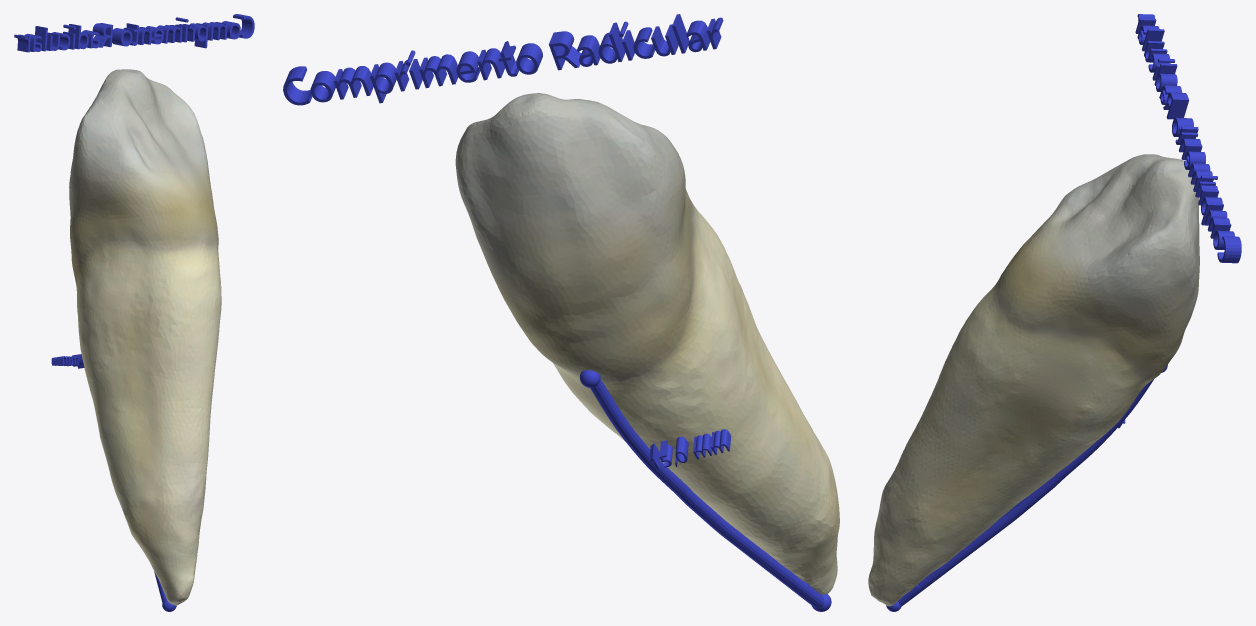
The model's file is 33 - Comprimento Radicular.glb.
3 views of the same model, side by side, from view 1: azimuth 30°, elevation 25°; view 2: azimuth 150°, elevation 25°; view 3: azimuth 270°, elevation 25° (orthographic). The views are drawn at different scales.
Visible parts, largest first — view 1: 3MFMeshParent_0, 3MFMeshParent_2, 3MFMeshParent_1; view 2: 3MFMeshParent_0, 3MFMeshParent_2, 3MFMeshParent_3, 3MFMeshParent_1; view 3: 3MFMeshParent_0, 3MFMeshParent_2, 3MFMeshParent_3.
Boxes of the visible parts, <box> form: 3MFMeshParent_0: <box>69,69,221,605</box>; 3MFMeshParent_2: <box>14,14,254,52</box>; 3MFMeshParent_1: <box>51,354,84,368</box>; 3MFMeshParent_0: <box>455,93,839,594</box>; 3MFMeshParent_2: <box>283,14,723,105</box>; 3MFMeshParent_3: <box>590,380,824,608</box>; 3MFMeshParent_1: <box>649,429,731,469</box>; 3MFMeshParent_0: <box>868,154,1199,606</box>; 3MFMeshParent_2: <box>1135,14,1241,263</box>; 3MFMeshParent_3: <box>898,379,1153,606</box>.
Size of the model in its own units: 0.3151 by 0.5598 by 0.3289.
2 materials, 1 textured.
